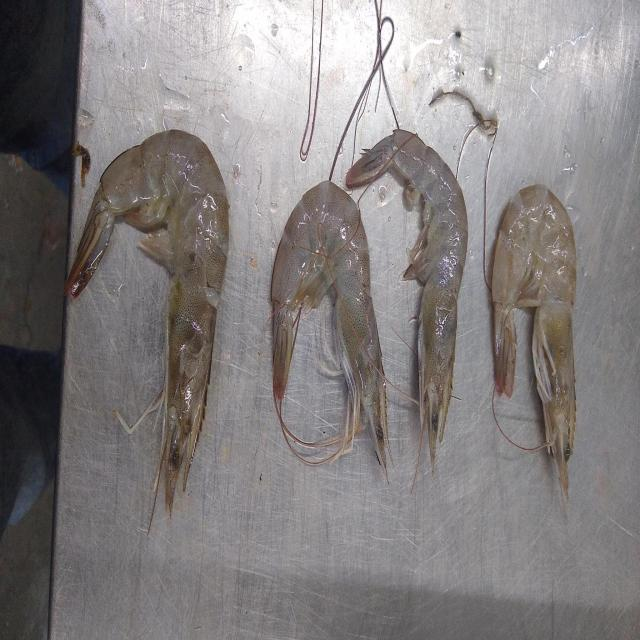shrimp: (65, 129, 229, 513), (346, 129, 468, 471), (271, 180, 390, 478), (491, 184, 576, 500)
